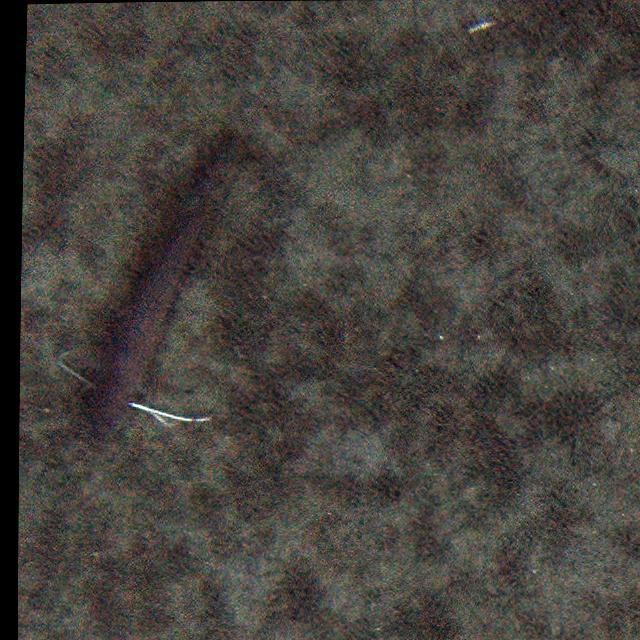roundfish: (60, 139, 258, 446)
